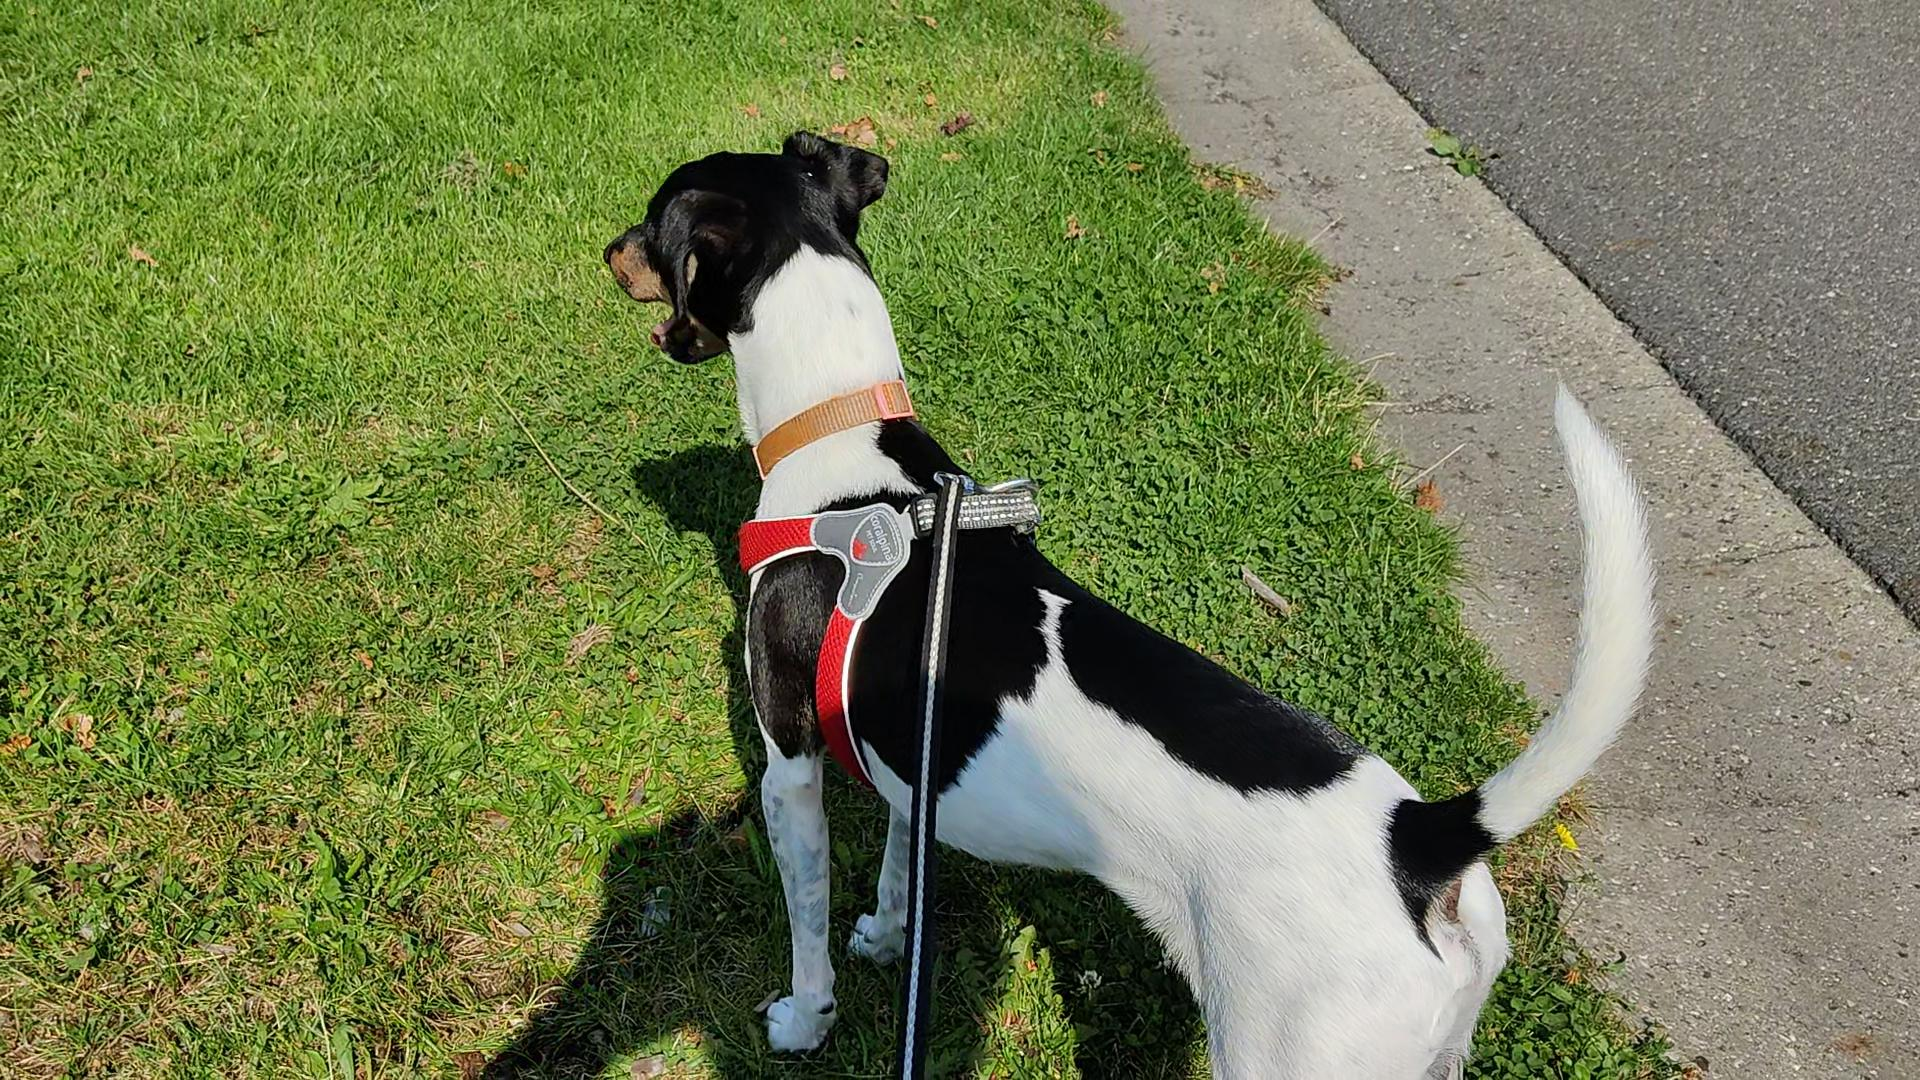Dog: (574, 98, 1683, 1079)
